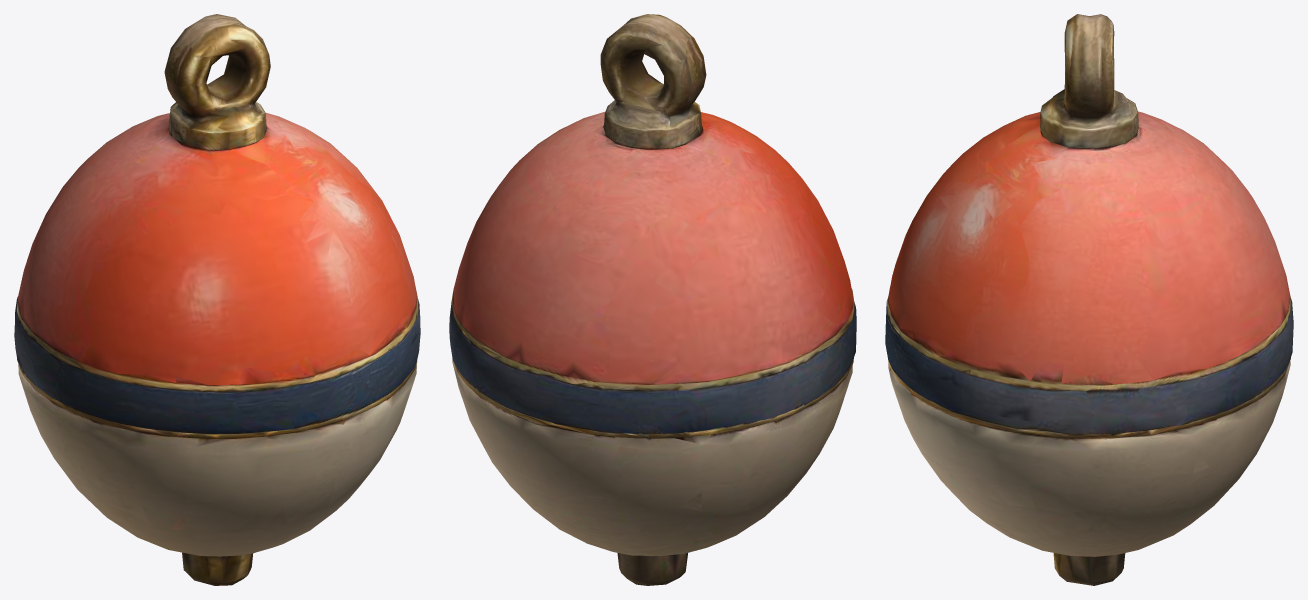
File: bobber.glb
3 renders of one model, left to right at view 1: azimuth 30°, elevation 25°; view 2: azimuth 150°, elevation 25°; view 3: azimuth 270°, elevation 25°, orthographic.
Parts seen in each view (by area): view 1: tripo_node_13a704f2-a9d2-4a2e-a798-0bf6ec9dd406; view 2: tripo_node_13a704f2-a9d2-4a2e-a798-0bf6ec9dd406; view 3: tripo_node_13a704f2-a9d2-4a2e-a798-0bf6ec9dd406.
Part boxes in pixels (x1,y1,x2,y2): tripo_node_13a704f2-a9d2-4a2e-a798-0bf6ec9dd406: (14, 14, 420, 585); tripo_node_13a704f2-a9d2-4a2e-a798-0bf6ec9dd406: (449, 14, 856, 585); tripo_node_13a704f2-a9d2-4a2e-a798-0bf6ec9dd406: (885, 14, 1293, 585).
Bounding box in the file's own units: 0.0596 × 0.09 × 0.0598.
1 material, 1 textured.
